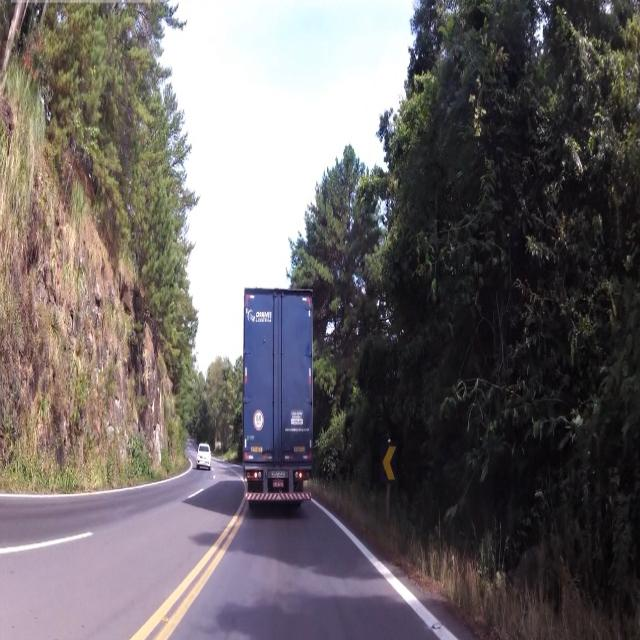Del: (379, 437, 399, 488)
